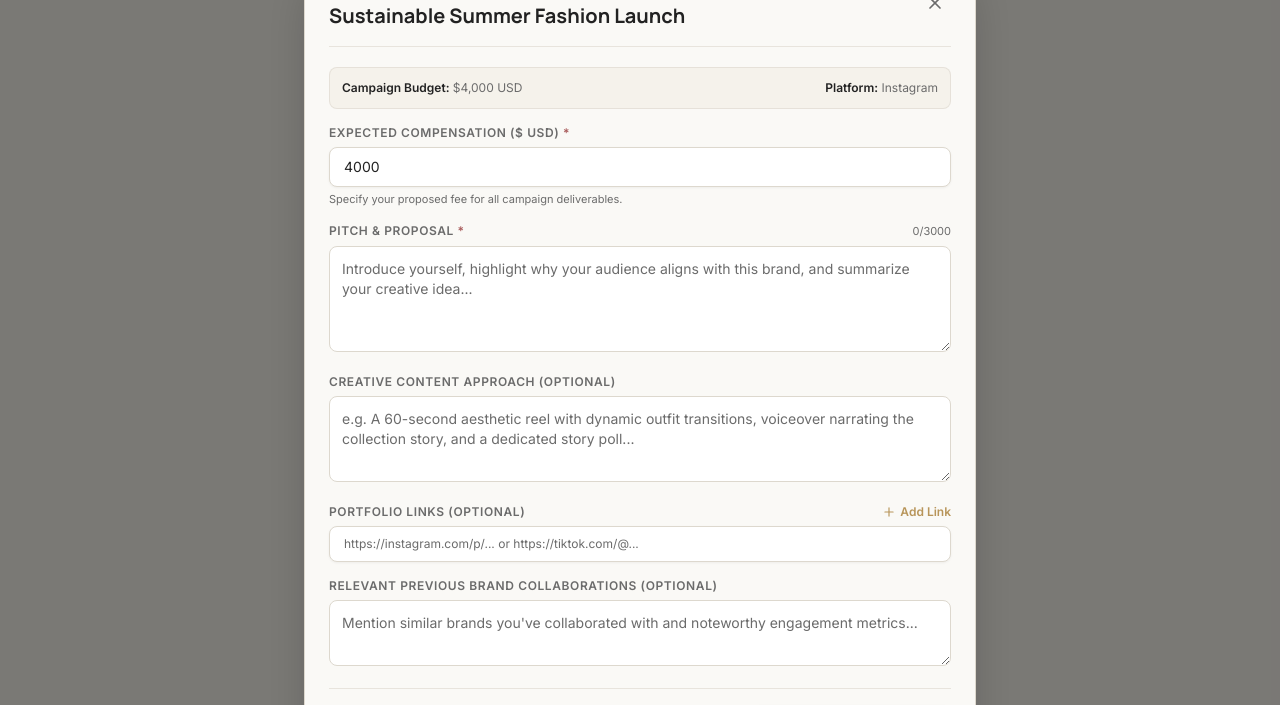
Test: Frontend Applications UI Tests (Phase 5) › ApplyModal Component › shows validation error when proposal is too short
Replace the text in the text box with placeholder "Introduce yourself" with "Short" at (640, 298), box [329,246,951,352]
(page scrolled)
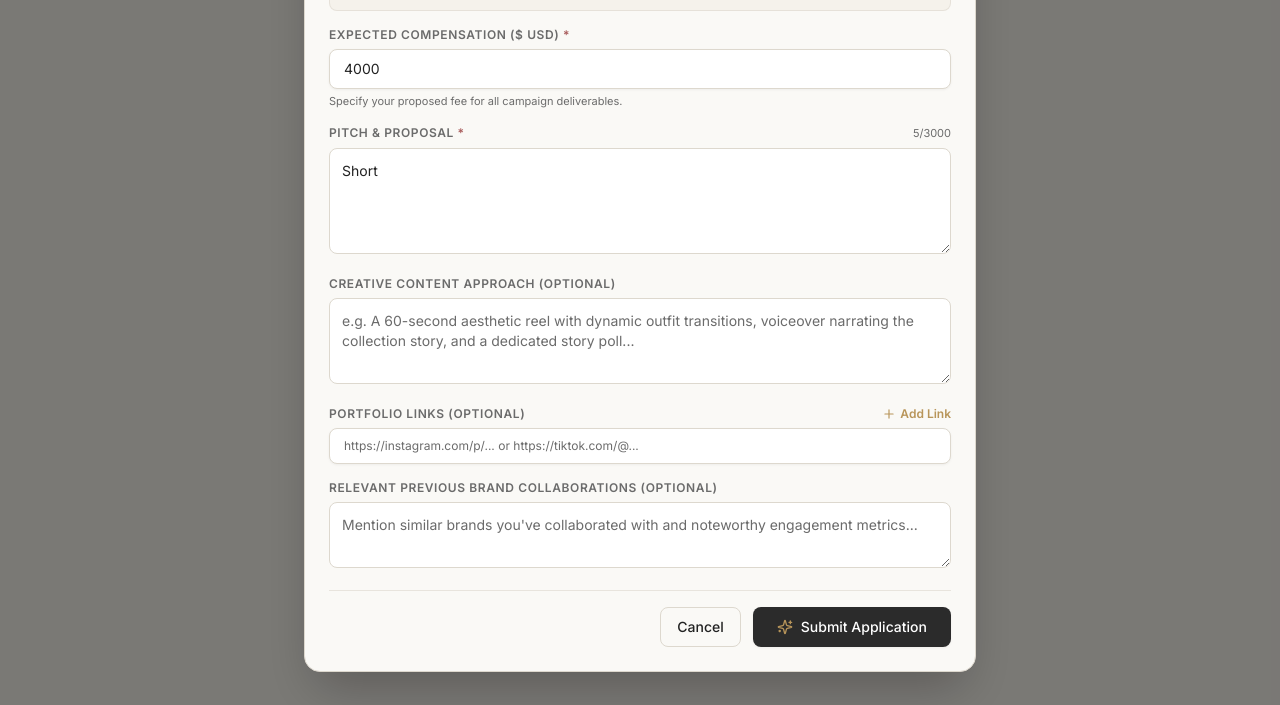
Click the button "Submit Application".
click(852, 626)  # box [753,606,951,646]
(page scrolled)
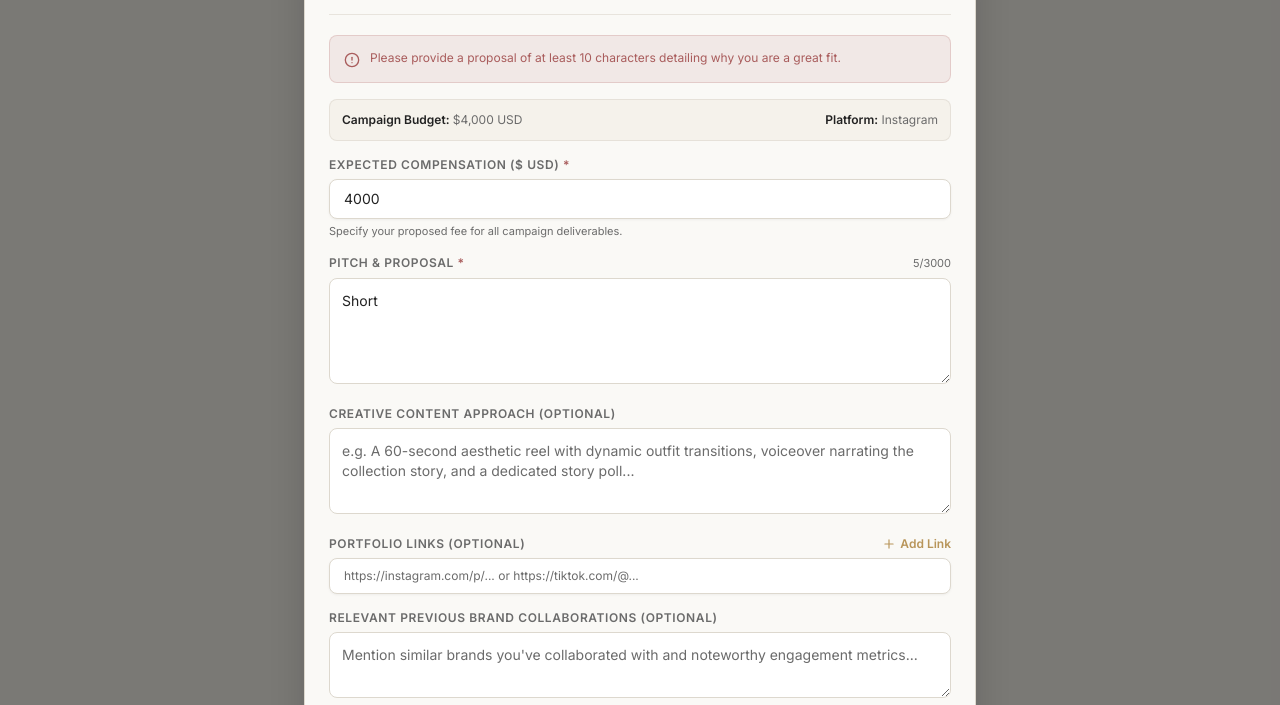
Now the text "at least 10 characters" is shown, box [370,50,841,64]
